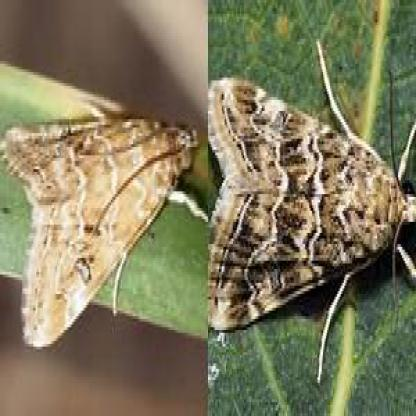Hellula undalis: (207, 30, 415, 389), (2, 85, 207, 350)
